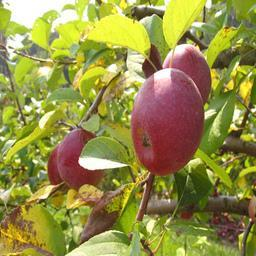apple: (130, 68, 205, 175), (46, 128, 104, 192), (161, 43, 210, 104)
